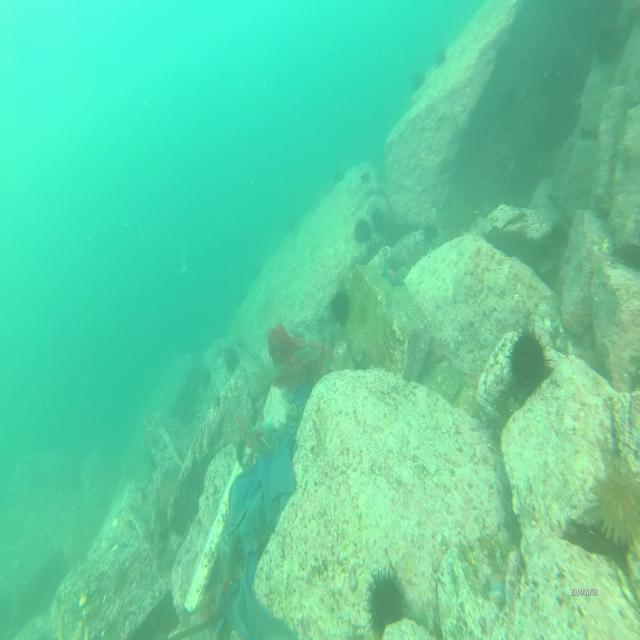echinus: (586, 451, 639, 554), (361, 559, 414, 640), (503, 320, 554, 398), (326, 287, 355, 324), (219, 345, 242, 381), (354, 216, 372, 247), (410, 66, 427, 90), (432, 44, 448, 68), (334, 160, 346, 185), (359, 166, 373, 187)
